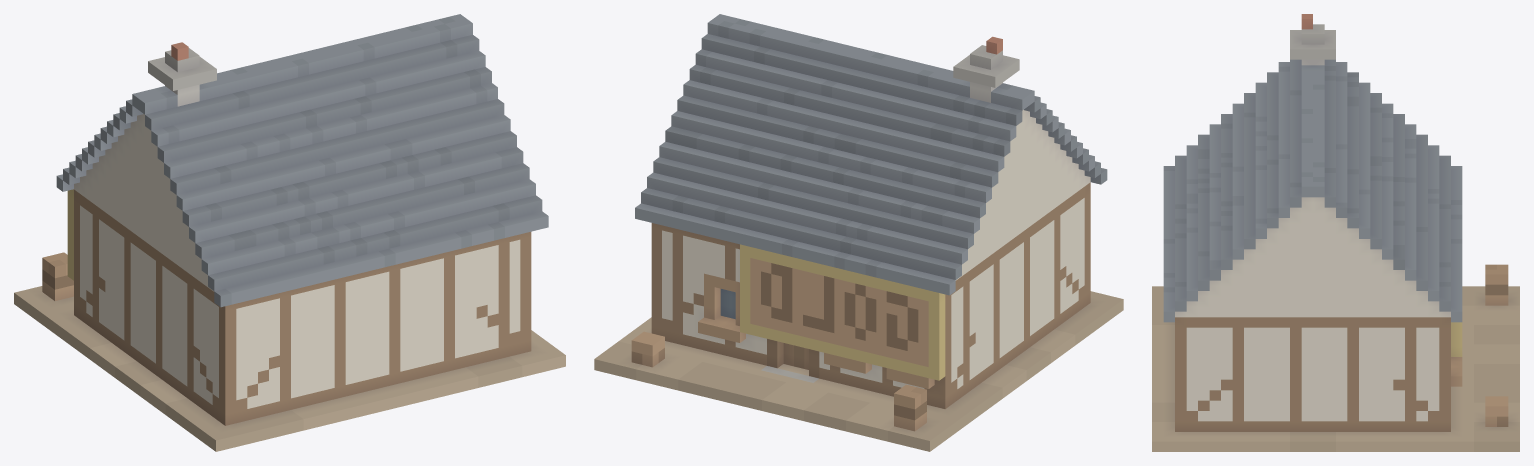
The model's file is goldsmith.glb.
3 renders of one model, left to right at view 1: azimuth 30°, elevation 25°; view 2: azimuth 150°, elevation 25°; view 3: azimuth 270°, elevation 25°, orthographic. The views are drawn at different scales.
Parts seen in each view (by area): view 1: goldsmith; view 2: goldsmith; view 3: goldsmith.
Part boxes in pixels (box(x1,y1,x2,y2)): goldsmith: box(14, 14, 565, 451); goldsmith: box(594, 14, 1123, 451); goldsmith: box(1152, 14, 1519, 451).
Size of the model in its own units: 4 by 3.62 by 4.
